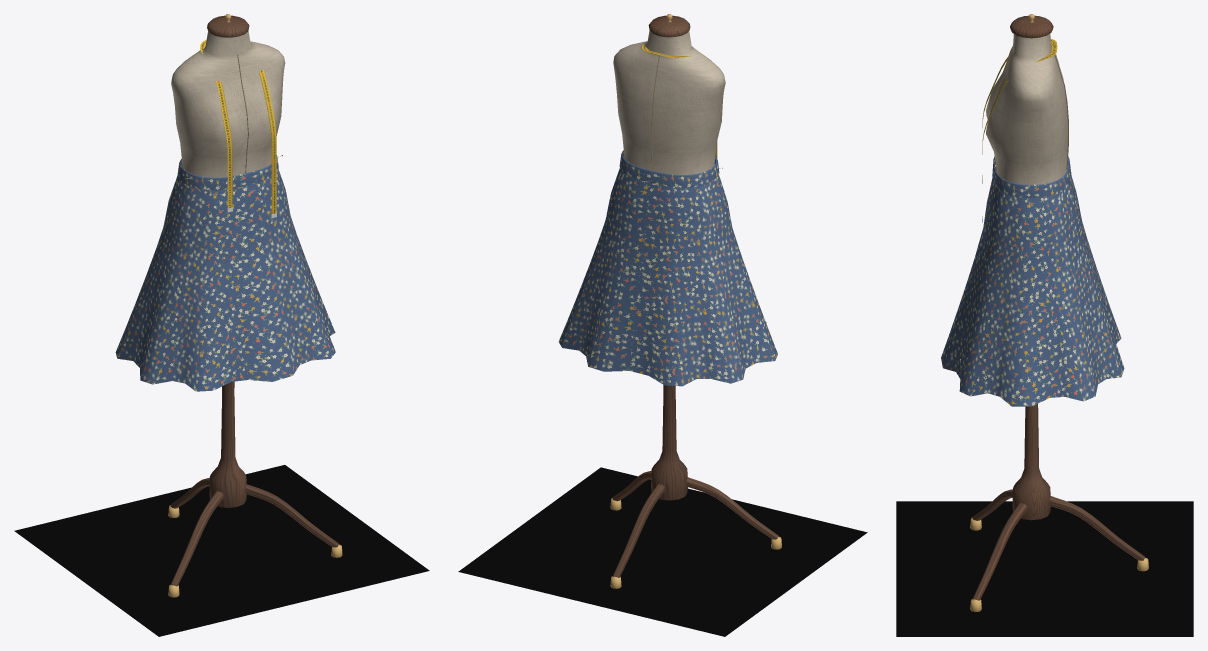
The model's file is dress_form.glb.
3 renders of one model, left to right at view 1: azimuth 30°, elevation 25°; view 2: azimuth 150°, elevation 25°; view 3: azimuth 270°, elevation 25°, orthographic. The views are drawn at different scales.
Parts seen in each view (by area): view 1: dress_form_LOD0, dress_form_Shadow; view 2: dress_form_LOD0, dress_form_Shadow; view 3: dress_form_LOD0, dress_form_Shadow.
Boxes of the visible parts, left/top/right/bottom form: dress_form_LOD0: left=115, top=14, right=342, bottom=597; dress_form_Shadow: left=14, top=465, right=429, bottom=636; dress_form_LOD0: left=558, top=14, right=781, bottom=588; dress_form_Shadow: left=458, top=467, right=867, bottom=636; dress_form_LOD0: left=941, top=14, right=1148, bottom=611; dress_form_Shadow: left=896, top=501, right=1193, bottom=636.
Size of what is drawn, in the model's own units: 0.8641 by 1.65 by 0.8006.
Materials: 5 (5 with a texture image).
